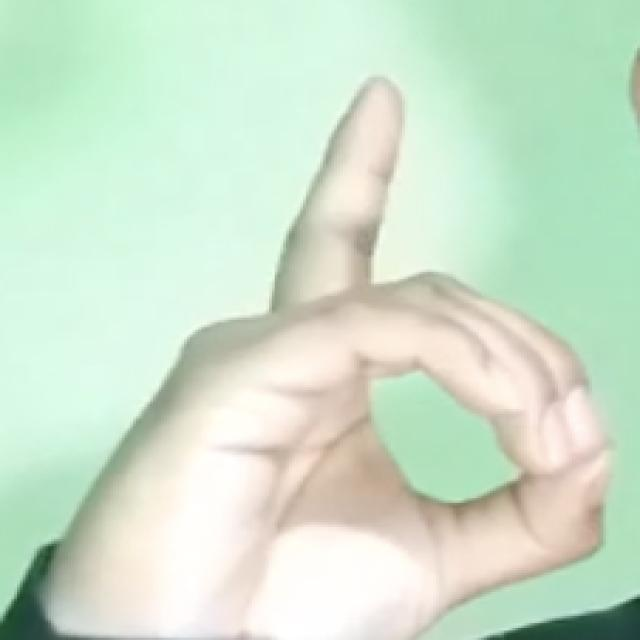D: (55, 65, 621, 630)
